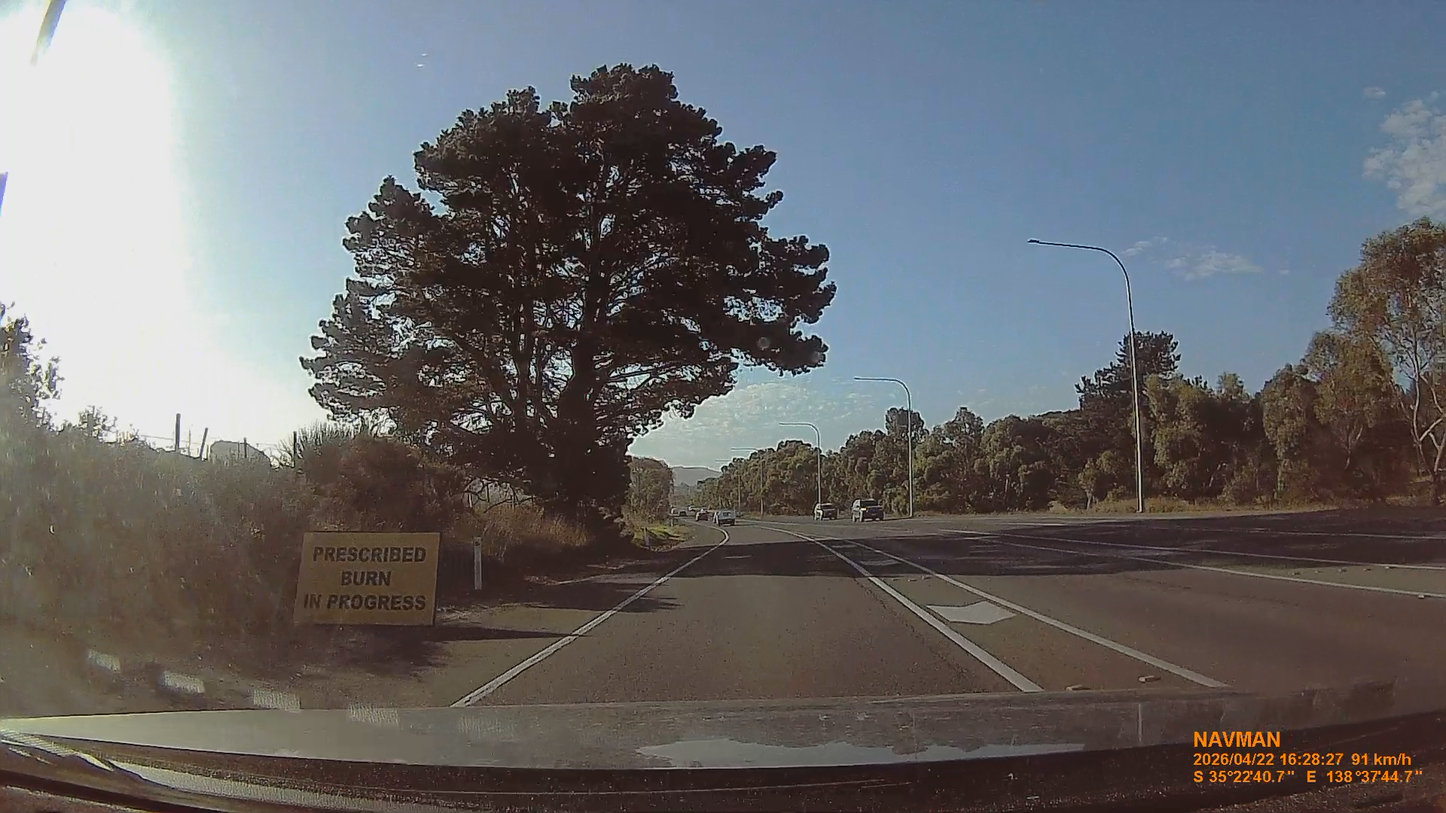fences: (441, 537, 499, 594)
